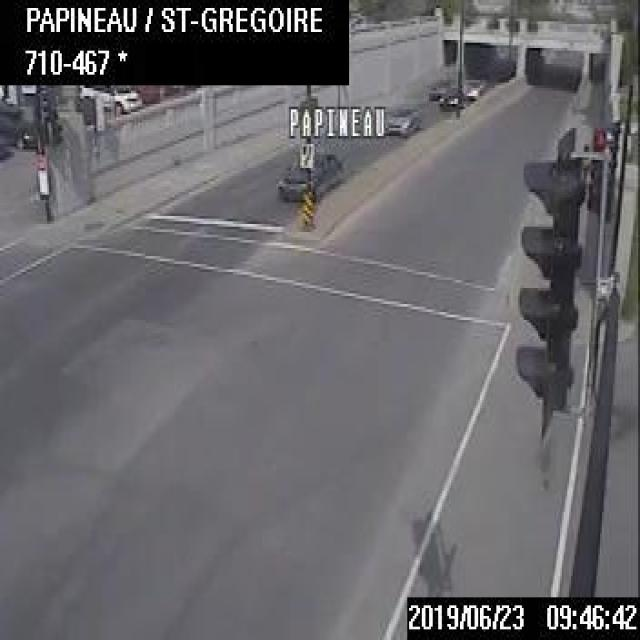vehicle: (273, 144, 340, 203), (76, 83, 146, 113), (0, 97, 36, 150), (382, 105, 420, 133), (435, 84, 464, 112), (459, 76, 486, 100)
